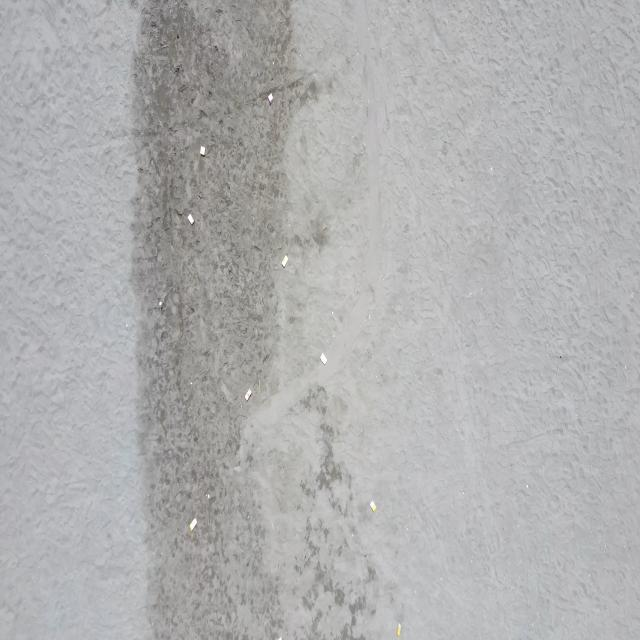retort-pouch: (189, 515, 198, 533), (280, 253, 289, 269), (395, 621, 402, 640), (244, 386, 252, 402), (369, 498, 377, 514), (266, 91, 274, 106), (320, 352, 328, 366), (187, 211, 194, 227), (199, 145, 206, 158)
